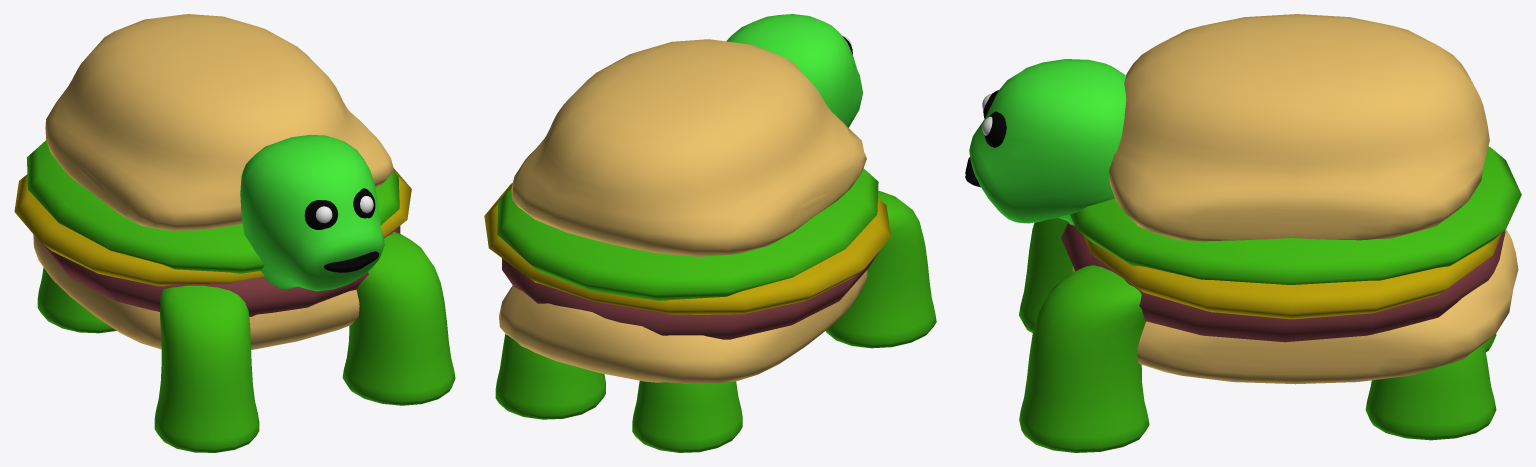
Rendered from fred.fbx.
The picture shows the model from 3 angles, left to right: view 1: azimuth 30°, elevation 25°; view 2: azimuth 150°, elevation 25°; view 3: azimuth 270°, elevation 25°; orthographic projection. The views are drawn at different scales.
Visible parts, largest first — view 1: Cube.010, Cube, Cube.004, Cube.003, Cube.007, Cube.005, Cube.009, Cube.008, Cube.001, Sphere, Sphere.004; view 2: Cube.010, Cube.007, Cube.005, Cube.004, Cube.009, Cube.001, Cube.008, Cube, Cube.002; view 3: Cube.010, Cube.007, Cube, Cube.003, Cube.005, Cube.009, Cube.008, Cube.002, Cube.004.
Boxes of the visible parts, bbox=[...] form: Cube.010: bbox=[45, 14, 393, 230]; Cube: bbox=[240, 134, 384, 291]; Cube.004: bbox=[154, 285, 259, 452]; Cube.003: bbox=[342, 232, 455, 405]; Cube.007: bbox=[27, 140, 399, 273]; Cube.005: bbox=[33, 234, 359, 349]; Cube.009: bbox=[14, 168, 411, 286]; Cube.008: bbox=[39, 226, 400, 316]; Cube.001: bbox=[37, 267, 116, 333]; Sphere: bbox=[304, 200, 338, 229]; Sphere.004: bbox=[324, 251, 379, 272]; Cube.010: bbox=[511, 39, 866, 256]; Cube.007: bbox=[497, 168, 878, 300]; Cube.005: bbox=[499, 270, 867, 384]; Cube.004: bbox=[825, 191, 936, 348]; Cube.009: bbox=[484, 182, 890, 314]; Cube.001: bbox=[632, 380, 742, 452]; Cube.008: bbox=[502, 251, 879, 339]; Cube: bbox=[726, 14, 862, 127]; Cube.002: bbox=[495, 334, 605, 419]; Cube.010: bbox=[1109, 14, 1489, 241]; Cube.007: bbox=[1070, 146, 1521, 284]; Cube: bbox=[969, 59, 1126, 225]; Cube.003: bbox=[1019, 265, 1149, 452]; Cube.005: bbox=[1072, 229, 1518, 384]; Cube.009: bbox=[1083, 233, 1501, 319]; Cube.008: bbox=[1061, 222, 1505, 342]; Cube.002: bbox=[1365, 344, 1496, 440]; Cube.004: bbox=[1019, 217, 1072, 332].
Size of the model in its own units: 297 by 243 by 361.
